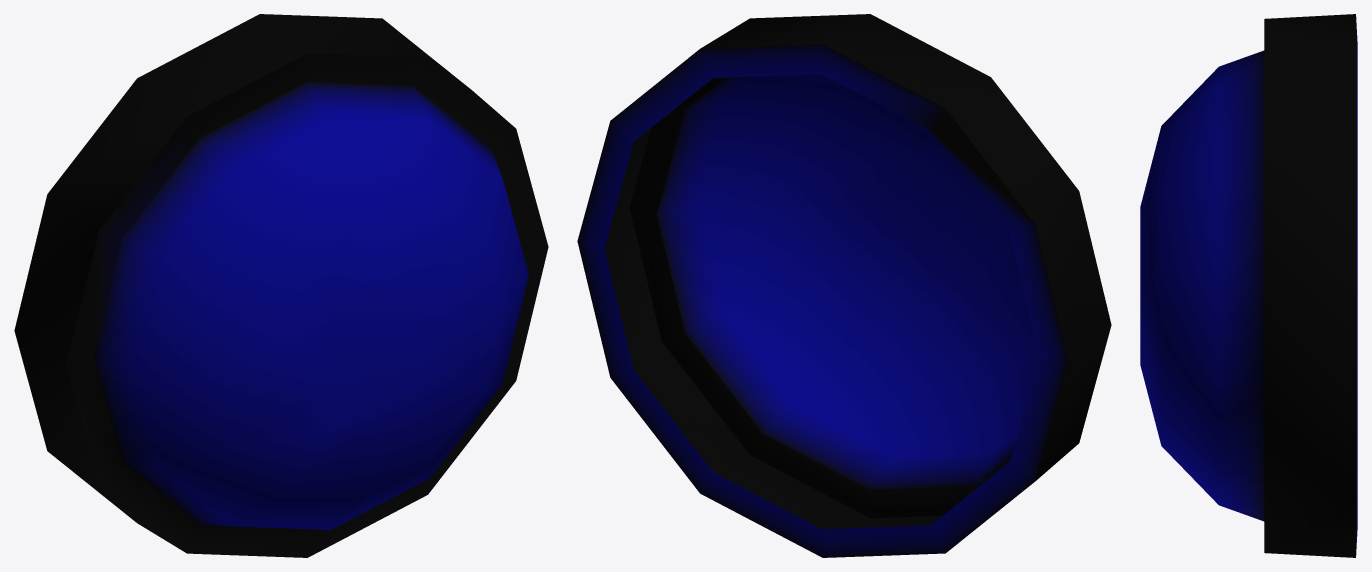
File: Big Green Bulb.fbx
3 renders of one model, left to right at view 1: azimuth 30°, elevation 25°; view 2: azimuth 150°, elevation 25°; view 3: azimuth 270°, elevation 25°, orthographic. The views are drawn at different scales.
Parts seen in each view (by area): view 1: Big Green Bulb; view 2: Big Green Bulb; view 3: Big Green Bulb.
Part boxes in pixels (x1,y1,x2,y2): Big Green Bulb: (14,14,548,557); Big Green Bulb: (577,14,1111,557); Big Green Bulb: (1140,14,1357,557).
Bounding box in the file's own units: 97.28 × 97.28 × 38.72.
